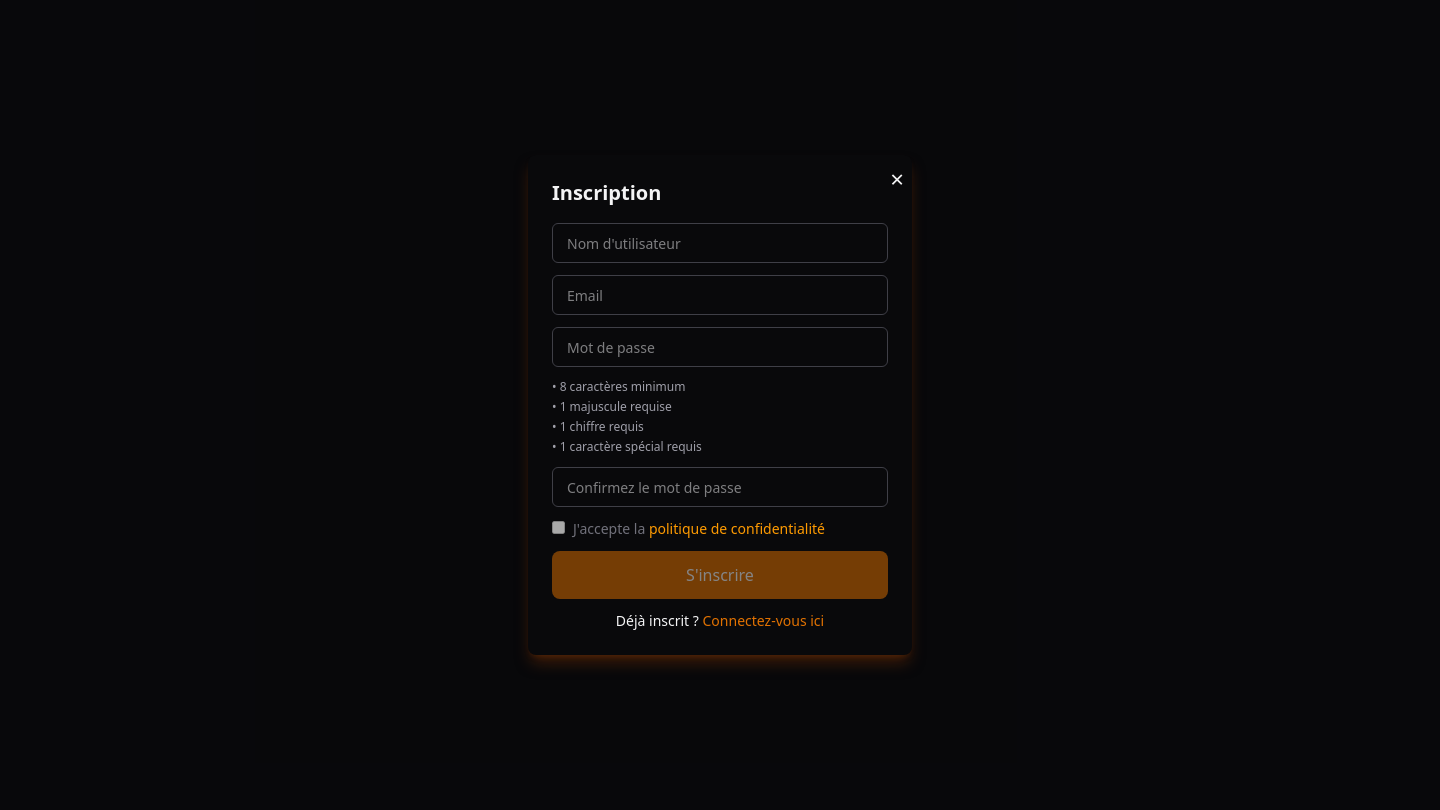
RegisterPage › submit button is enabled after filling all fields and checking consent
In the field with placeholder "Nom d'utilisateur": (720, 243) x1=552 y1=223 x2=888 y2=263, type "TestUser"
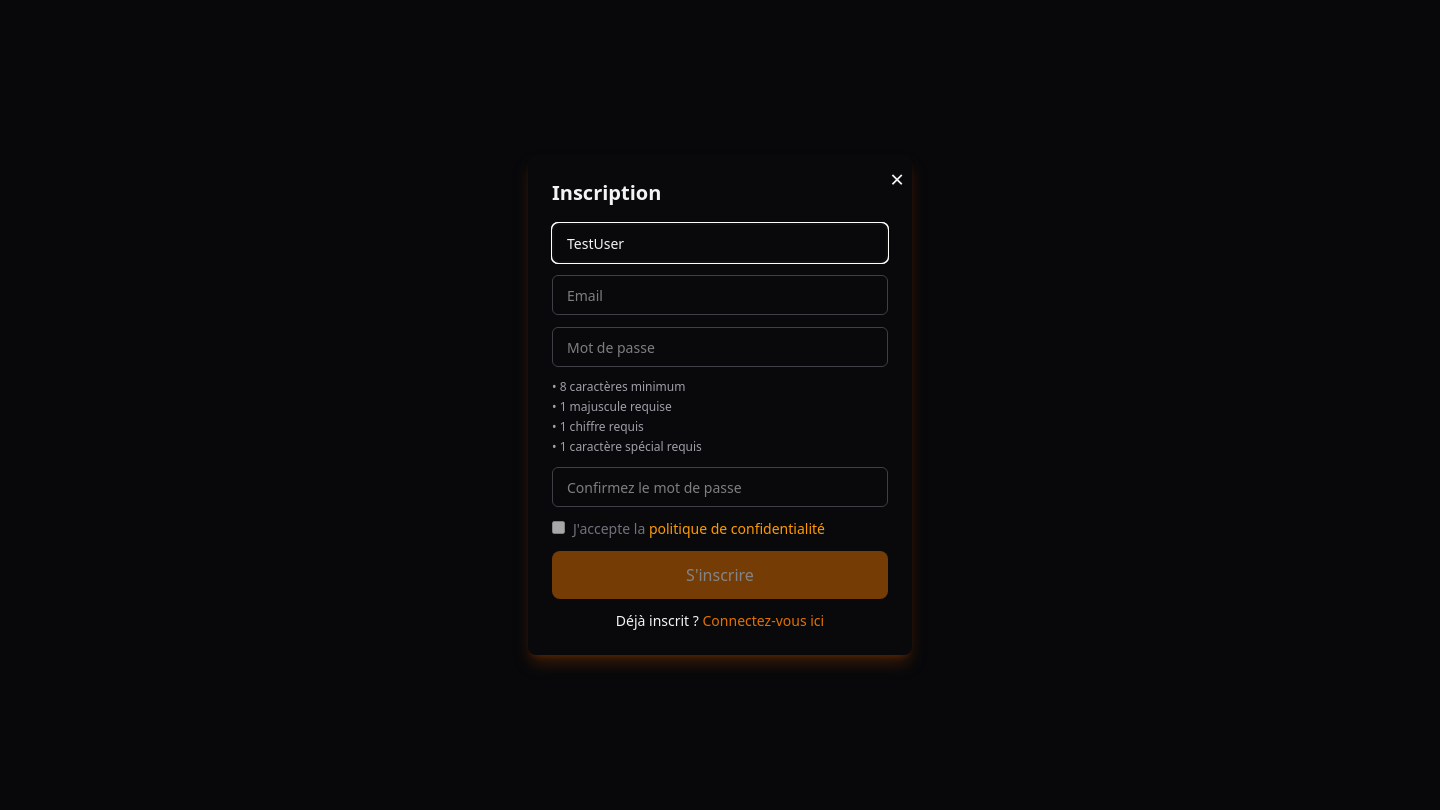
In the field with placeholder "Email": (720, 295) x1=552 y1=275 x2=888 y2=315, type "test@example.com"
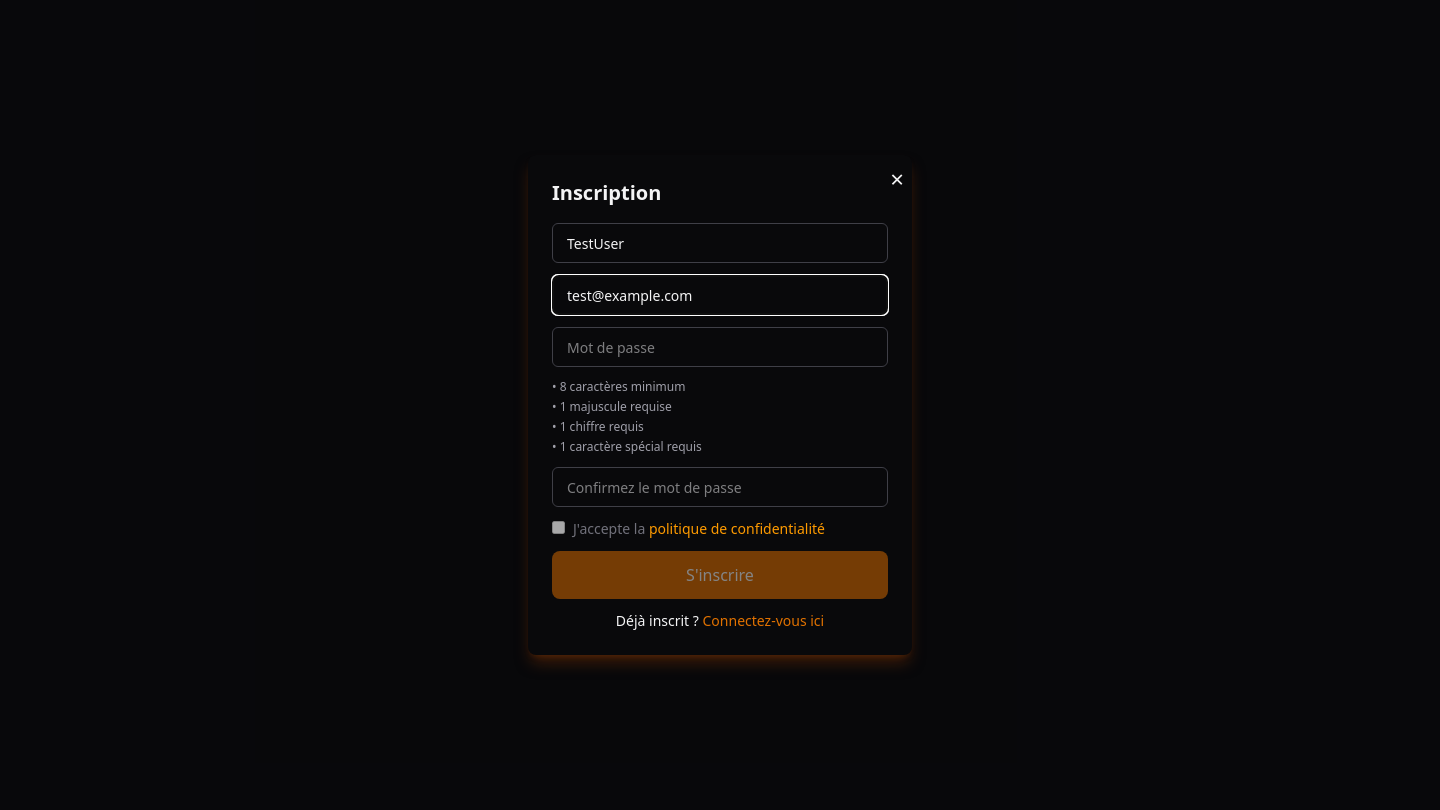
In the password field with placeholder "Mot de passe": (720, 347) x1=552 y1=327 x2=888 y2=367, type "Password1!"
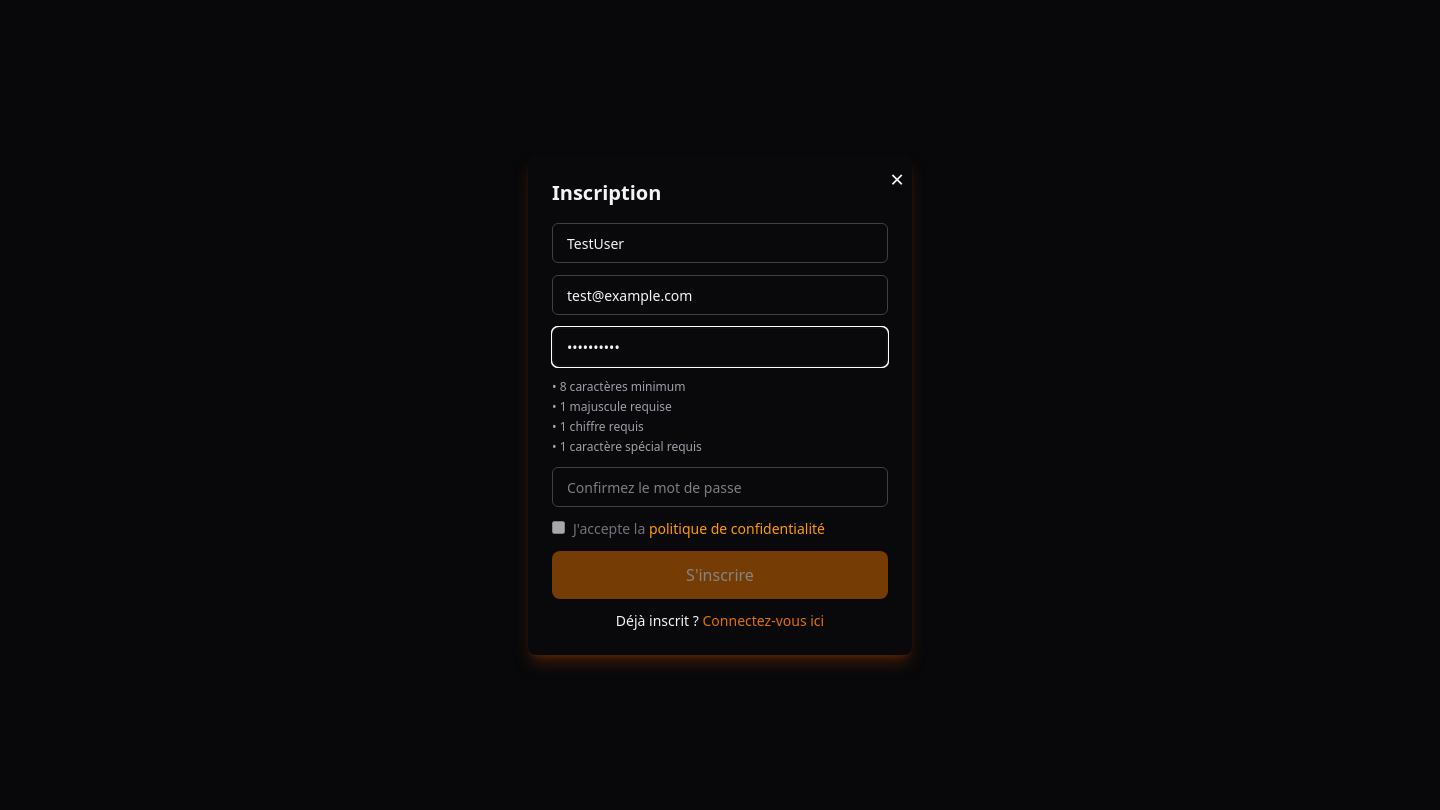
In the password field with placeholder "Confirmez le mot de passe": (720, 487) x1=552 y1=467 x2=888 y2=507, type "Password1!"
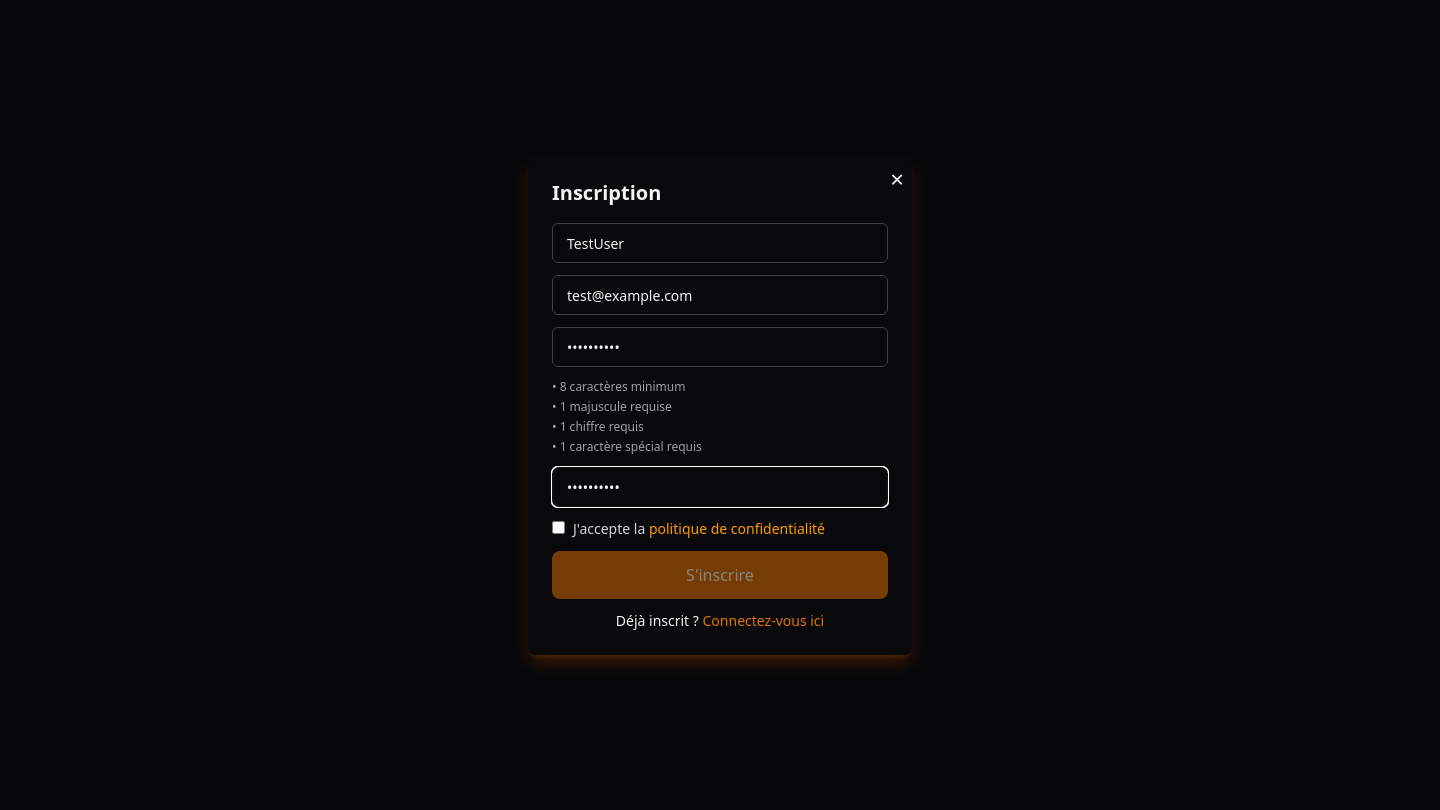
Click the checkbox: (558, 528) x1=552 y1=521 x2=565 y2=534
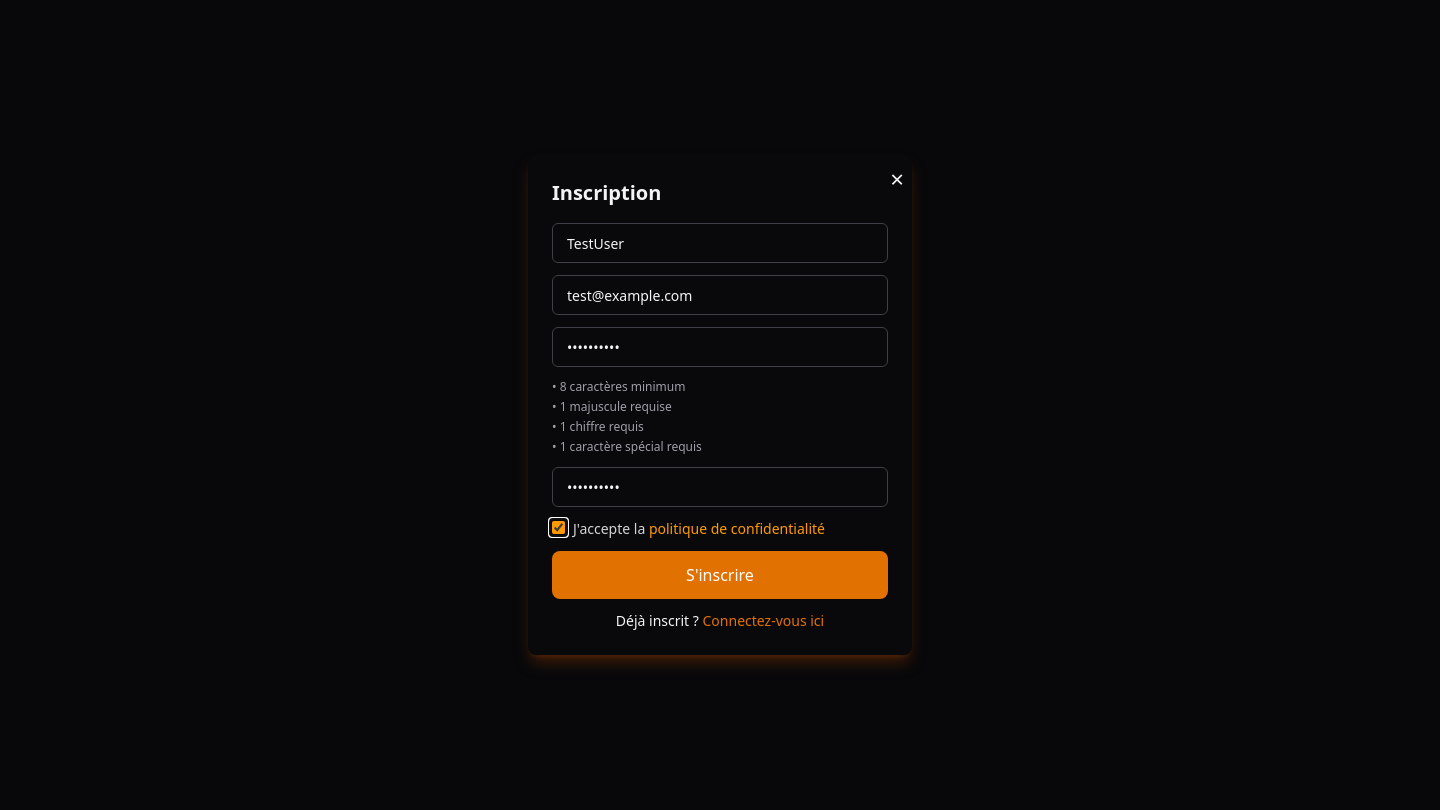
Expected: the button "S'inscrire" is enabled, x1=552 y1=551 x2=888 y2=599
